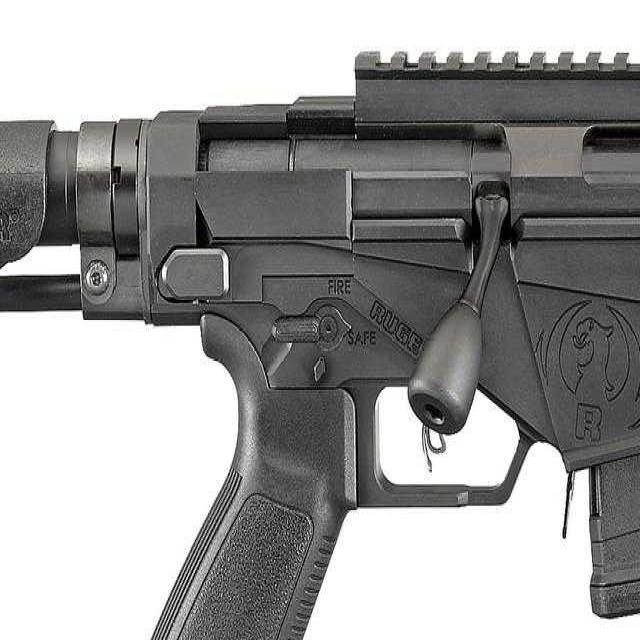heavyweapon: (1, 35, 640, 640)
